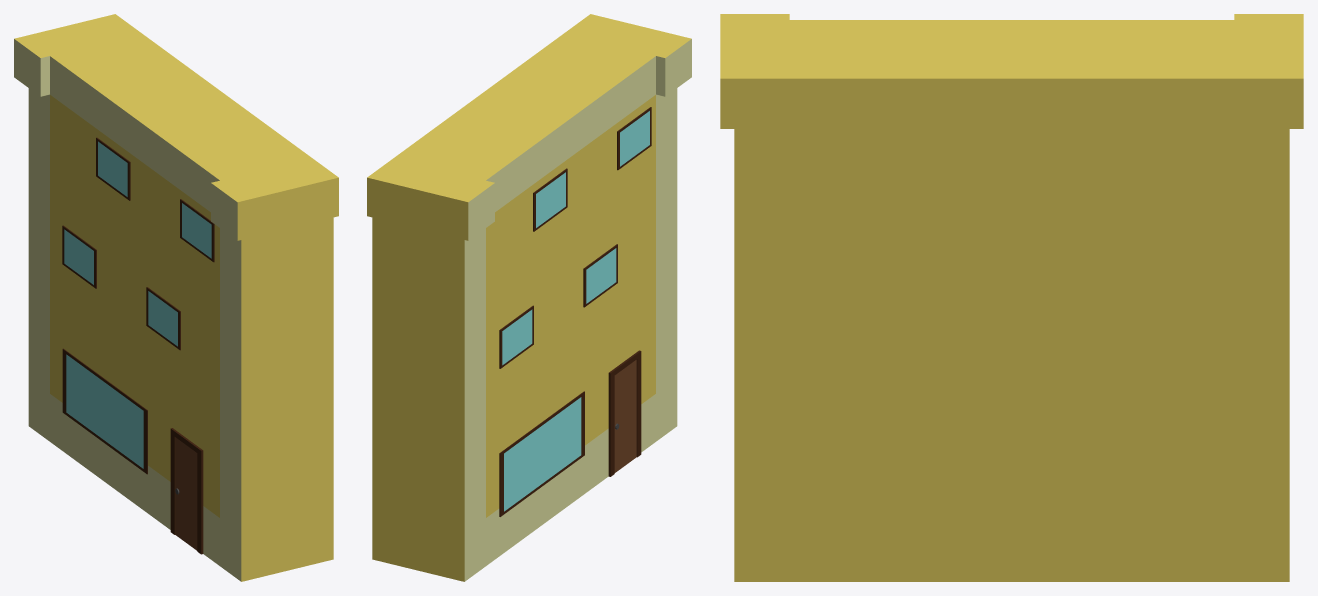
Rendered from building2.fbx.
The picture shows the model from 3 angles, left to right: view 1: azimuth 30°, elevation 25°; view 2: azimuth 150°, elevation 25°; view 3: azimuth 270°, elevation 25°; orthographic projection. The views are drawn at different scales.
Visible parts, largest first — view 1: Cube.009; view 2: Cube.009; view 3: Cube.009.
Boxes of the visible parts, x1,y1,x2,y2 form: Cube.009: [14, 14, 338, 581]; Cube.009: [367, 14, 691, 581]; Cube.009: [720, 14, 1303, 581].
Size of the model in its own units: 466 by 1696 by 1781.
